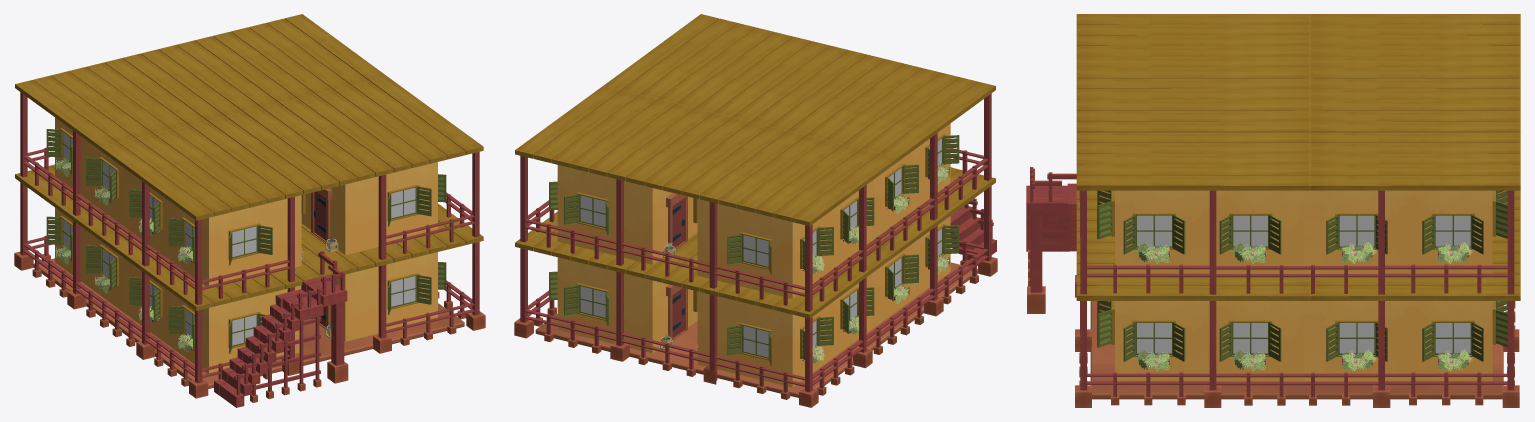
The model's file is Long's house modular5.fbx.
The picture shows the model from 3 angles, left to right: view 1: azimuth 30°, elevation 25°; view 2: azimuth 150°, elevation 25°; view 3: azimuth 270°, elevation 25°; orthographic projection. The views are drawn at different scales.
Visible parts, largest first — view 1: Cube.472; view 2: Cube.472; view 3: Cube.472.
Part boxes in pixels (left/top/right/bottom): Cube.472: left=14, top=14, right=485, bottom=407; Cube.472: left=514, top=14, right=997, bottom=407; Cube.472: left=1026, top=14, right=1520, bottom=407.
Bounding box in the file's own units: 2398 × 1435 × 2896.
